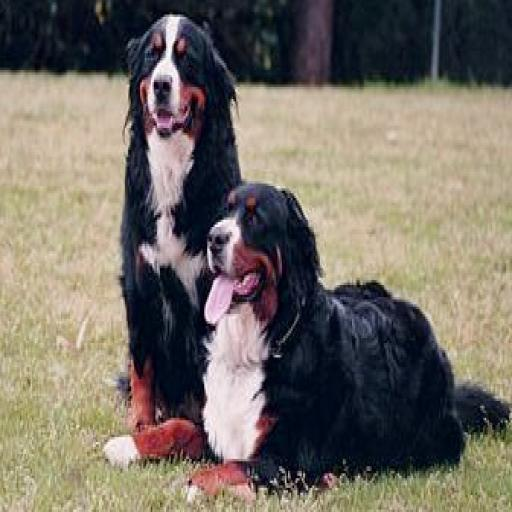dog_face: (203, 175, 307, 320), (124, 23, 226, 136)
